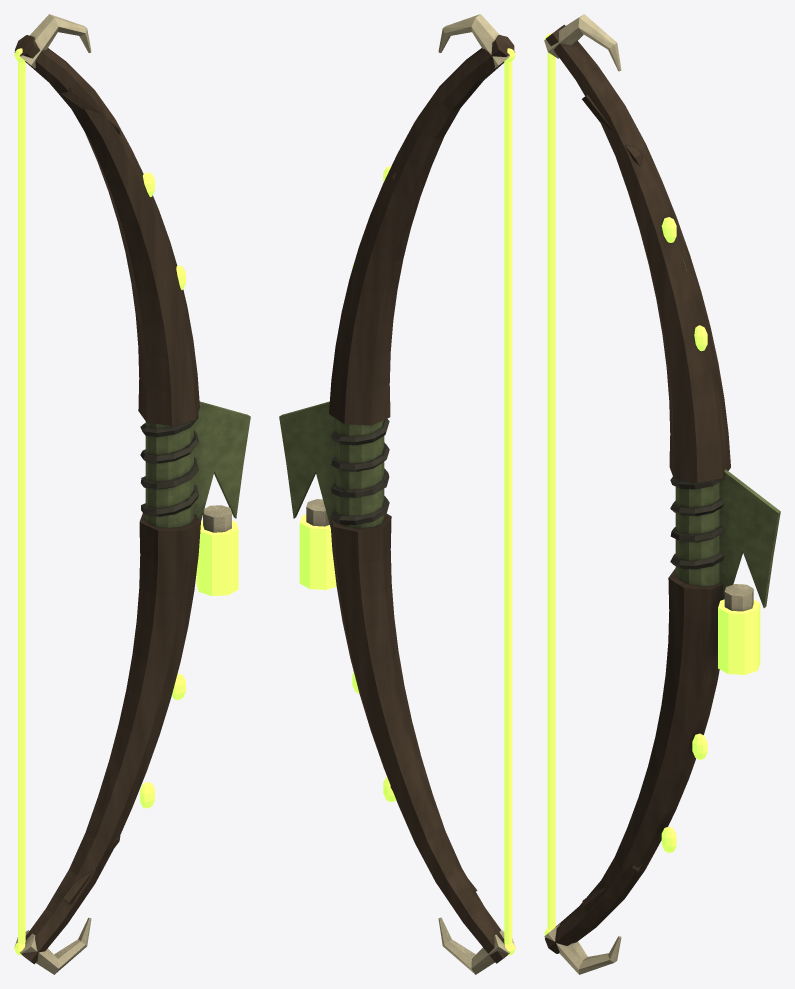
File: 05_swamp_ranged.fbx
3 renders of one model, left to right at view 1: azimuth 30°, elevation 25°; view 2: azimuth 150°, elevation 25°; view 3: azimuth 330°, elevation 25°, orthographic.
Visible parts, largest first — view 1: Weapon; view 2: Weapon; view 3: Weapon.
Boxes of the visible parts, x1,y1,x2,y2 form: Weapon: (14, 14, 250, 974); Weapon: (279, 14, 515, 974); Weapon: (544, 14, 780, 974).
Size of the model in its own units: 35.75 by 140 by 8.4.
Materials: 2 (1 with a texture image).
